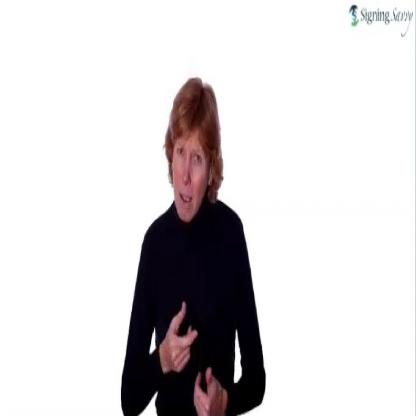HowAreYou: (160, 289, 230, 416)
